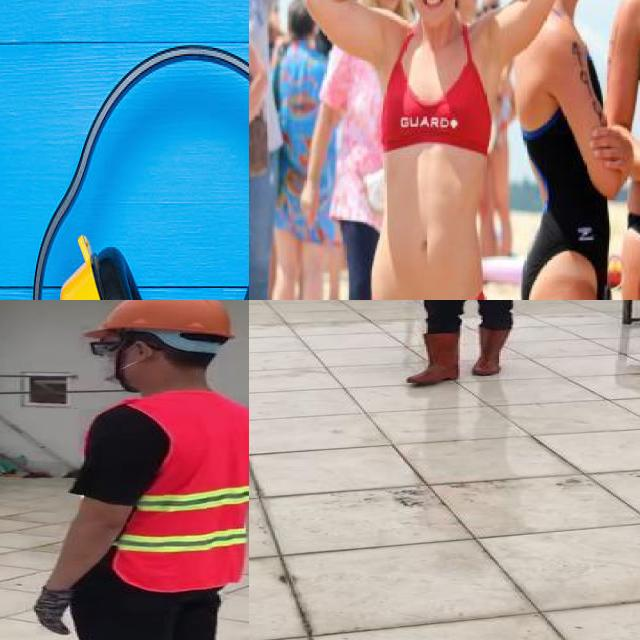Ear-protection: (0, 34, 249, 300)
boots: (406, 331, 464, 384), (472, 327, 510, 375)
hand_glove: (27, 586, 81, 634)
hand_noglove: (585, 118, 640, 178)
head_helmet: (72, 300, 239, 341)
person: (0, 300, 249, 640), (295, 0, 562, 300), (392, 300, 545, 390)
vest: (86, 394, 249, 588)
